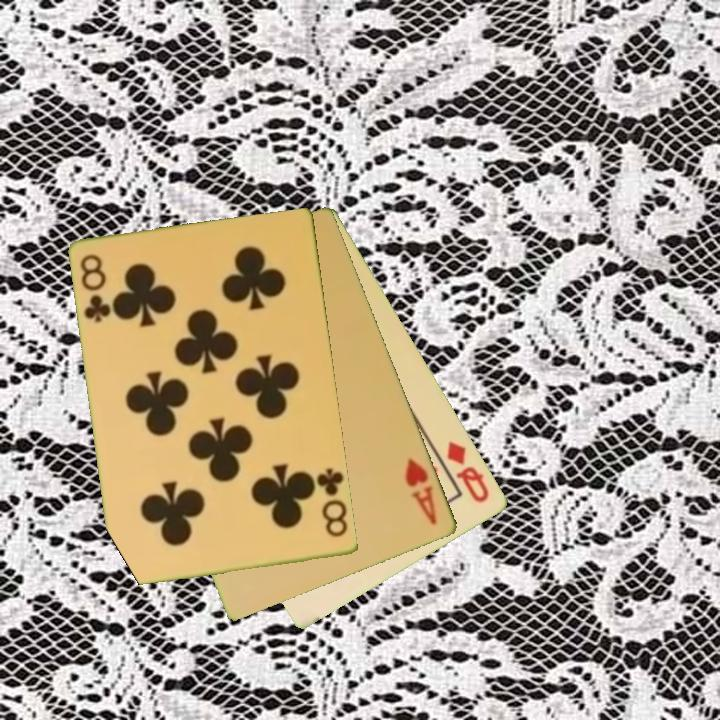8c: (309, 465, 351, 540), (77, 251, 115, 326)
Ah: (401, 455, 441, 528)
Qd: (444, 437, 493, 506)
